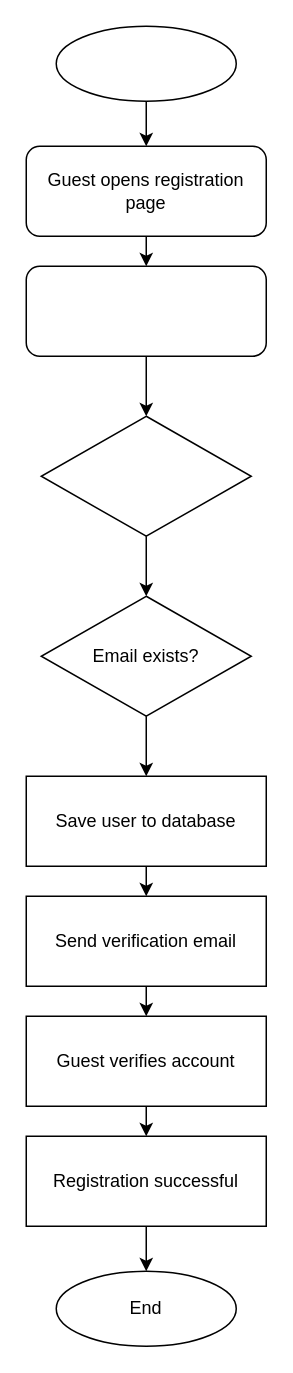
Image size: 293x1373. Some labels were removed from this diagram. Here are the shapes that lost their labels. From the top down, the centre of each, then its label:
At (x=145, y=63): "Start".
At (x=145, y=310): "Guest enters details".
At (x=145, y=475): "Validate input".
